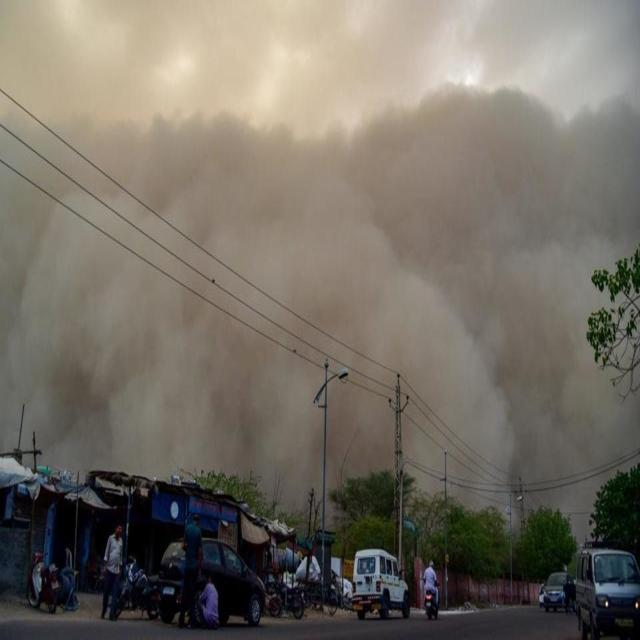Car: (156, 536, 268, 632), (351, 548, 412, 621), (543, 572, 576, 614)
Cycle: (109, 554, 162, 625), (26, 549, 61, 615), (309, 581, 340, 617), (423, 583, 441, 622)
Van: (572, 541, 639, 640)
